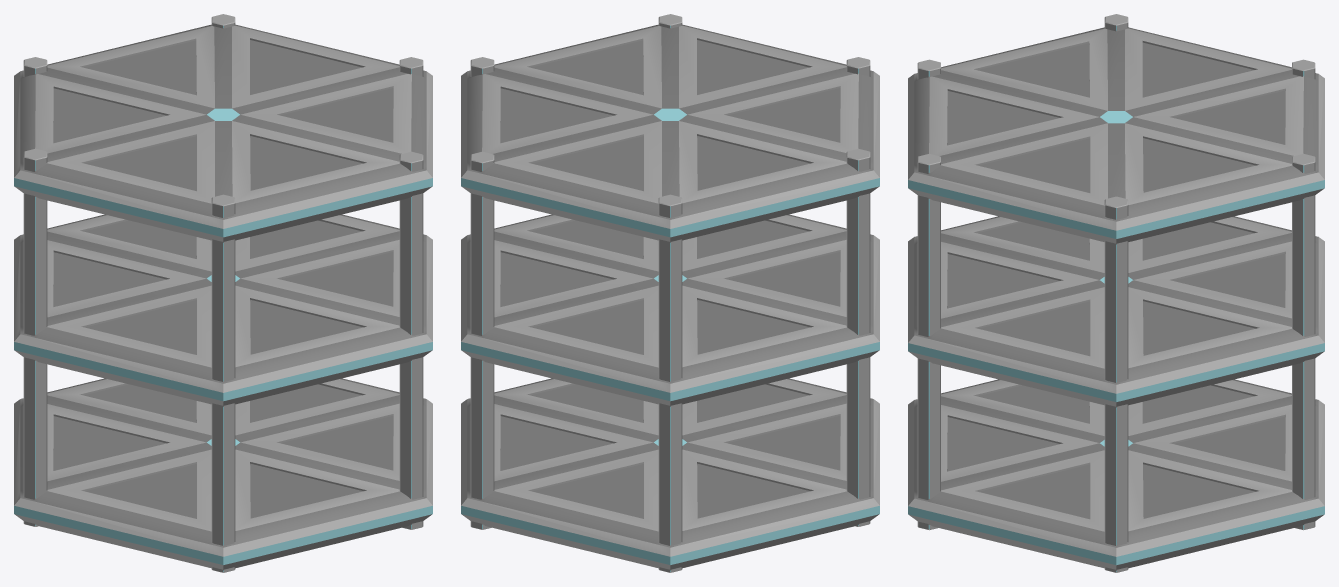
The model's file is Storage Shelf.fbx.
3 renders of one model, left to right at view 1: azimuth 30°, elevation 25°; view 2: azimuth 150°, elevation 25°; view 3: azimuth 270°, elevation 25°, orthographic.
Parts seen in each view (by area): view 1: Storage_shelfs; view 2: Storage_shelfs; view 3: Storage_shelfs.
Boxes of the visible parts, left/top/right/bottom form: Storage_shelfs: left=14, top=14, right=432, bottom=572; Storage_shelfs: left=461, top=14, right=879, bottom=572; Storage_shelfs: left=908, top=14, right=1324, bottom=572.
Size of the model in its own units: 66.85 by 58.54 by 57.89.
